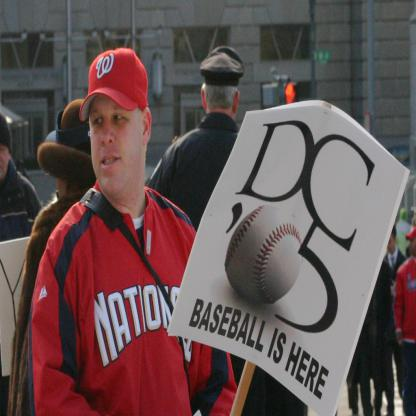Ball: (225, 202, 302, 307)
